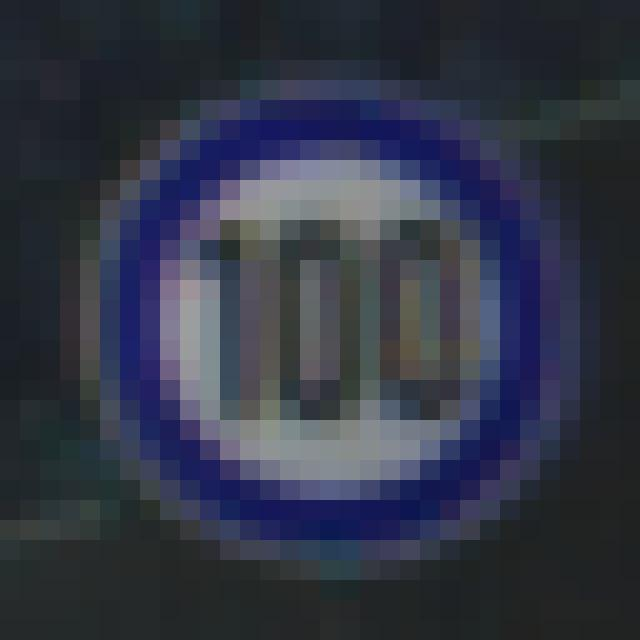SPEED LIMIT 100: (85, 77, 574, 567)
